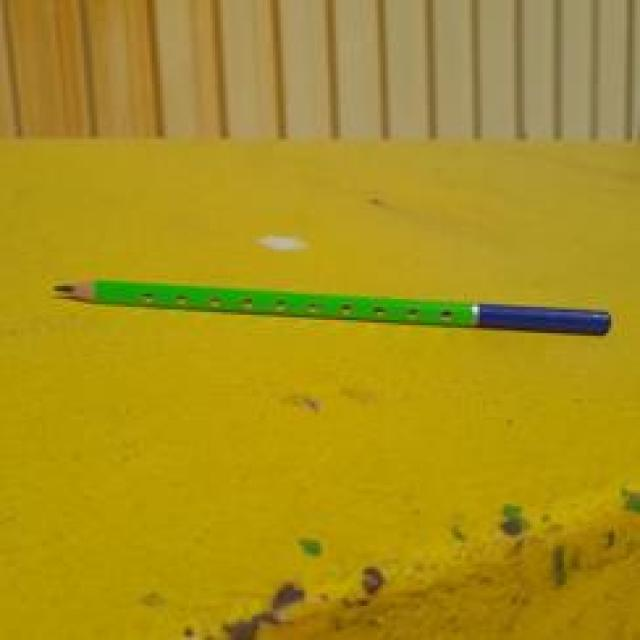pencil: (50, 275, 611, 336)
